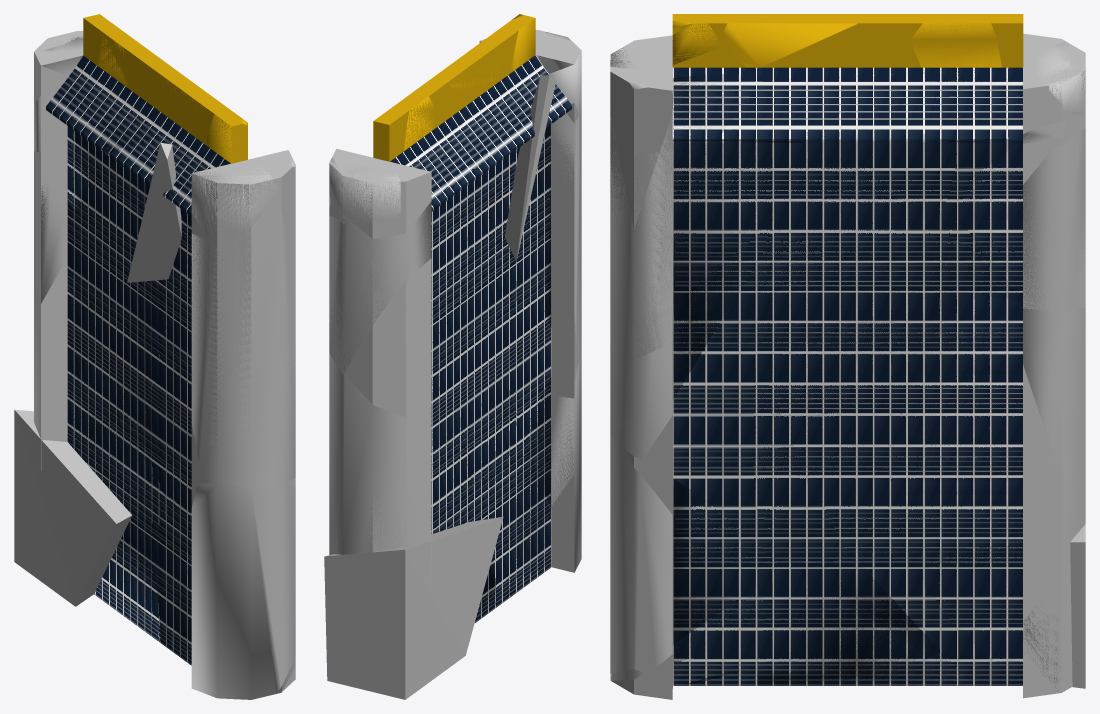
Rendered from debri13.fbx.
The picture shows the model from 3 angles, left to right: view 1: azimuth 30°, elevation 25°; view 2: azimuth 150°, elevation 25°; view 3: azimuth 270°, elevation 25°; orthographic projection. The views are drawn at different scales.
Parts seen in each view (by area): view 1: polySurface24, polySurface24_cell, polySurface24_cell.031, polySurface24_cell.009, polySurface24_cell.019, polySurface24_cell.027, polySurface24_cell.002, polySurface24_cell.022, polySurface24_cell.014, polySurface24_cell.020, polySurface24_cell.013, polySurface24_cell.032 (+5 smaller); view 2: polySurface24, polySurface24_cell.009, polySurface24_cell.020, polySurface24_cell.019, polySurface24_cell.001, polySurface24_cell, polySurface24_cell.011, polySurface24_cell.036, polySurface24_cell.025, polySurface24_cell.022, polySurface24_cell.034, polySurface24_cell.027 (+6 smaller); view 3: polySurface24, polySurface24_cell.027, polySurface24_cell, polySurface24_cell.019, polySurface24_cell.014, polySurface24_cell.031, polySurface24_cell.029, polySurface24_cell.020, polySurface24_cell.001, polySurface24_cell.033, polySurface24_cell.025, polySurface24_cell.039 (+10 smaller).
Boxes of the visible parts, box(x1,y1,x2,y2) form: polySurface24: box(34, 14, 295, 691); polySurface24_cell: box(163, 153, 295, 487); polySurface24_cell.031: box(191, 481, 295, 699); polySurface24_cell.009: box(14, 409, 132, 606); polySurface24_cell.019: box(75, 241, 180, 510); polySurface24_cell.027: box(67, 276, 181, 524); polySurface24_cell.002: box(191, 114, 278, 243); polySurface24_cell.022: box(127, 142, 181, 282); polySurface24_cell.014: box(94, 537, 160, 642); polySurface24_cell.020: box(34, 291, 67, 441); polySurface24_cell.013: box(41, 182, 84, 303); polySurface24_cell.032: box(101, 101, 172, 156); polySurface24: box(329, 15, 581, 606); polySurface24_cell.009: box(324, 516, 503, 699); polySurface24_cell.020: box(329, 353, 430, 554); polySurface24_cell.019: box(431, 237, 516, 461); polySurface24_cell.001: box(329, 201, 431, 374); polySurface24_cell: box(516, 56, 581, 354); polySurface24_cell.011: box(510, 377, 551, 579); polySurface24_cell.036: box(329, 157, 400, 224); polySurface24_cell.025: box(526, 395, 574, 506); polySurface24_cell.022: box(505, 75, 555, 261); polySurface24_cell.034: box(454, 163, 504, 259); polySurface24_cell.027: box(431, 366, 517, 485); polySurface24: box(610, 14, 1085, 699); polySurface24_cell.027: box(764, 289, 1022, 553); polySurface24_cell: box(610, 73, 772, 458); polySurface24_cell.019: box(753, 233, 1020, 521); polySurface24_cell.014: box(756, 560, 972, 685); polySurface24_cell.031: box(610, 436, 672, 673); polySurface24_cell.029: box(673, 142, 768, 304); polySurface24_cell.020: box(1023, 308, 1085, 543); polySurface24_cell.001: box(1023, 128, 1085, 311); polySurface24_cell.033: box(770, 142, 960, 233); polySurface24_cell.025: box(610, 479, 747, 680); polySurface24_cell.039: box(961, 142, 1022, 300).
Bounding box in the file's own units: 7065 × 37544 × 24743.
